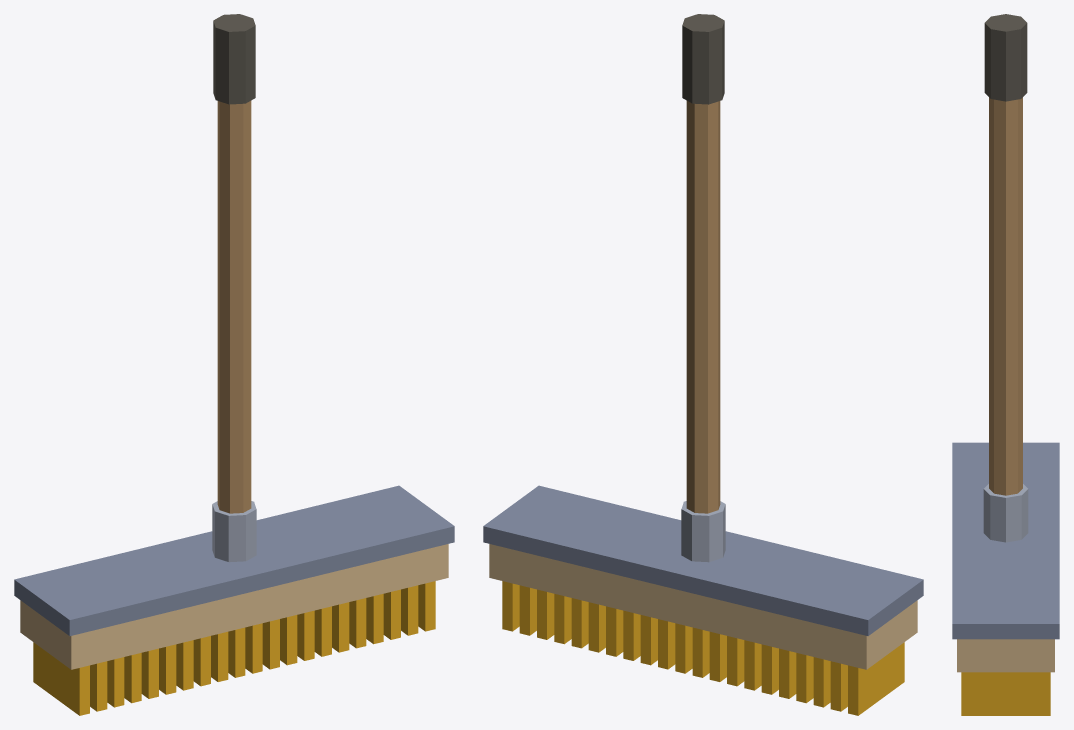
File: broom_wide.glb
3 renders of one model, left to right at view 1: azimuth 30°, elevation 25°; view 2: azimuth 150°, elevation 25°; view 3: azimuth 270°, elevation 25°, orthographic. The views are drawn at different scales.
Parts seen in each view (by area): view 1: broom_wide; view 2: broom_wide; view 3: broom_wide.
Boxes of the visible parts, x1,y1,x2,y2 form: broom_wide: (14,14,454,715); broom_wide: (483,14,923,715); broom_wide: (952,14,1059,715).
Size of the model in its own units: 1 by 1.57 by 0.25.
